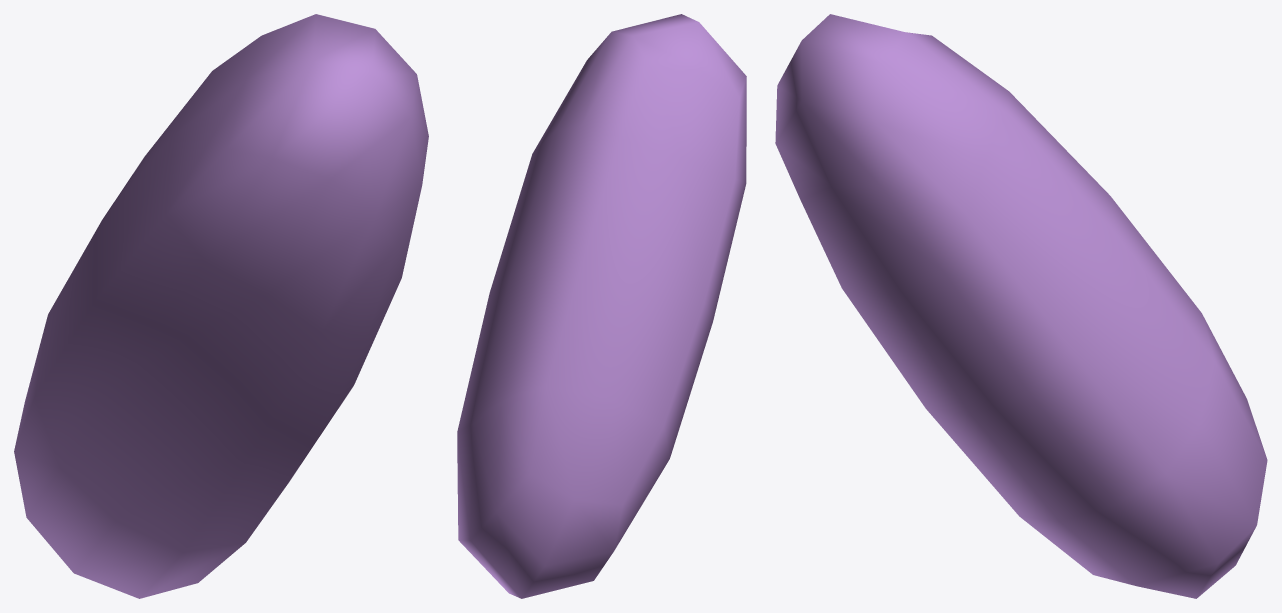
3 views of the same model, side by side, from view 1: azimuth 30°, elevation 25°; view 2: azimuth 150°, elevation 25°; view 3: azimuth 270°, elevation 25° (orthographic). The views are drawn at different scales.
Visible parts, largest first — view 1: 右侧下甲状旁腺; view 2: 右侧下甲状旁腺; view 3: 右侧下甲状旁腺.
Part boxes in pixels (x1,y1,x2,y2): 右侧下甲状旁腺: (14,14,428,598); 右侧下甲状旁腺: (457,14,746,598); 右侧下甲状旁腺: (775,14,1267,598).
Size of the model in its own units: 0.00245 by 0.00555 by 0.00439.
